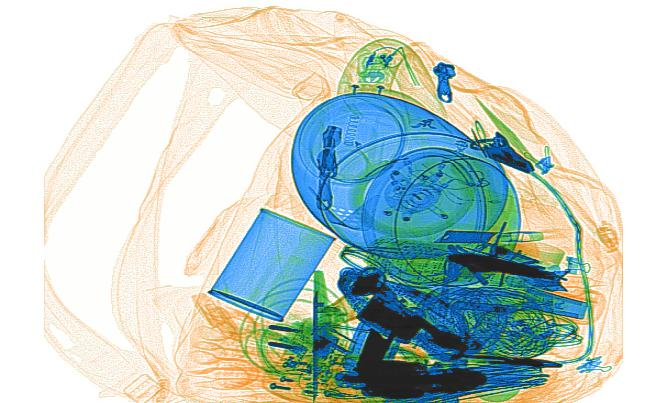knife: (517, 284, 605, 325), (432, 228, 501, 246)
